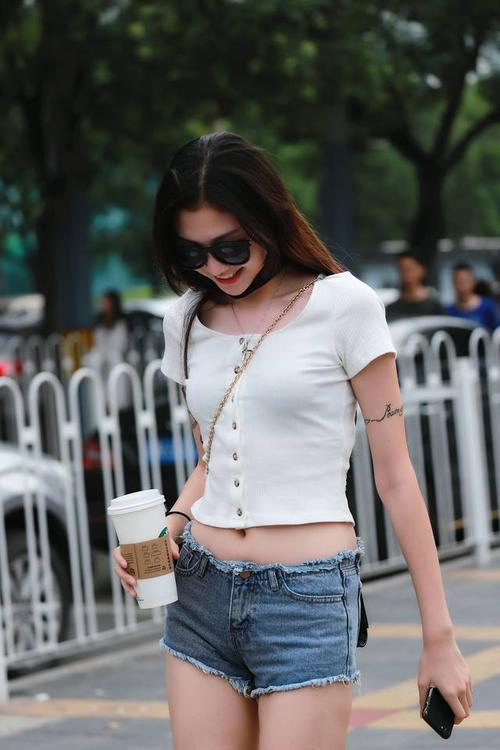no_mask: (146, 128, 280, 298)
